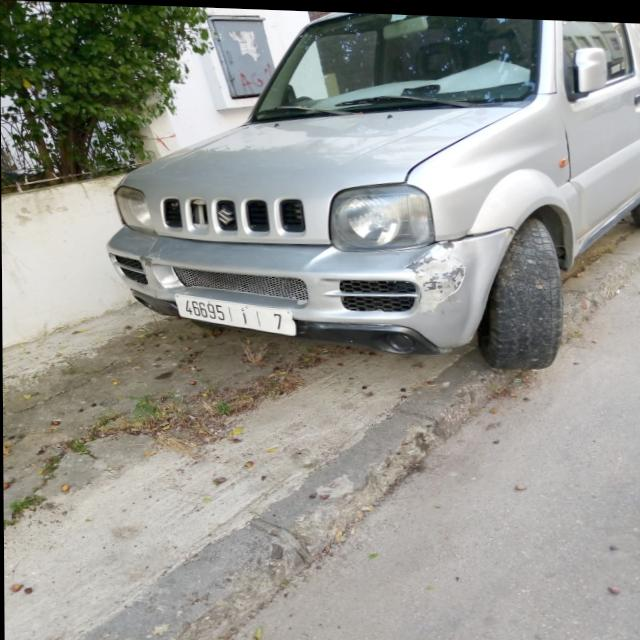License-Plate: (175, 293, 295, 333)
